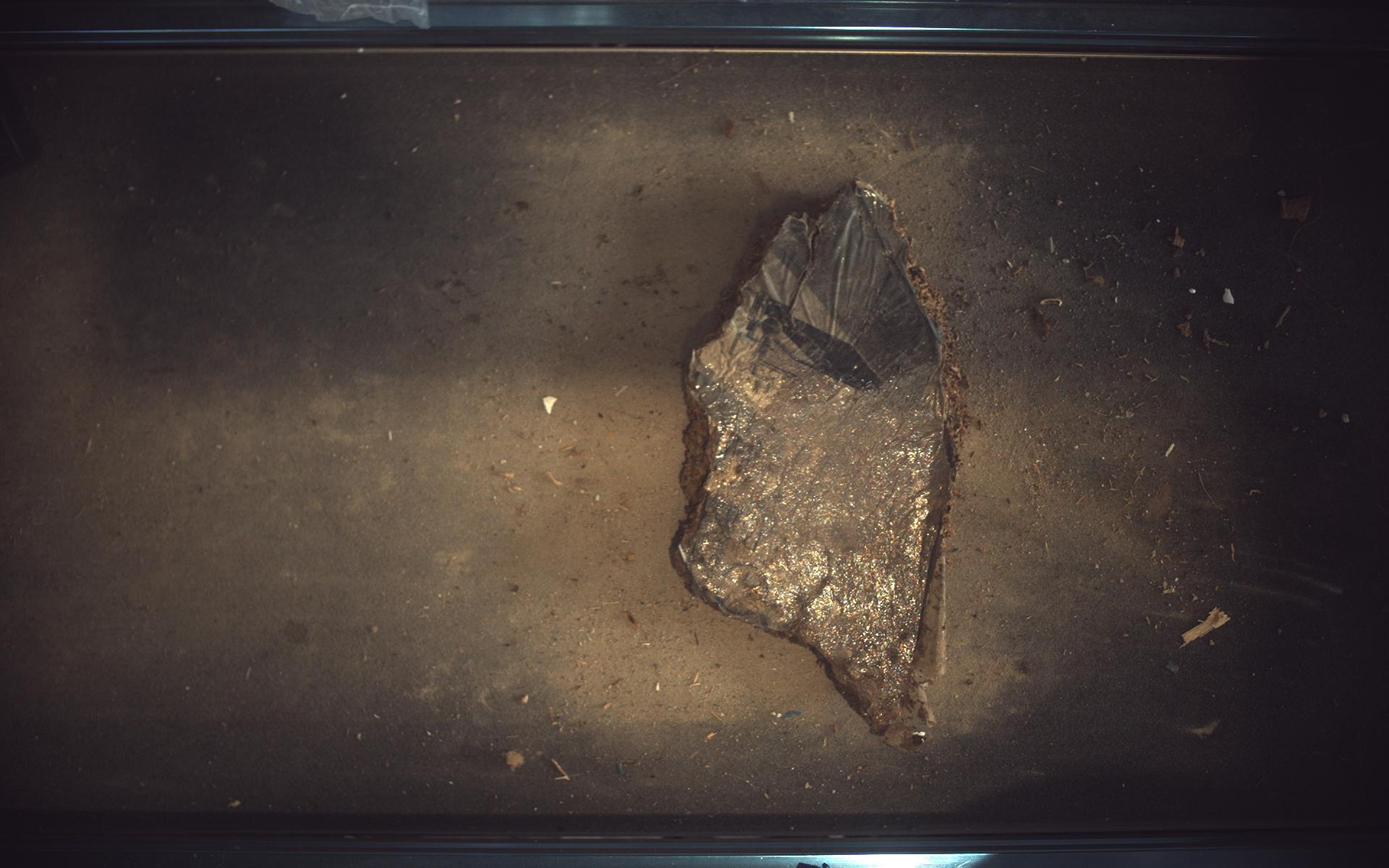wood: (674, 181, 967, 749)
